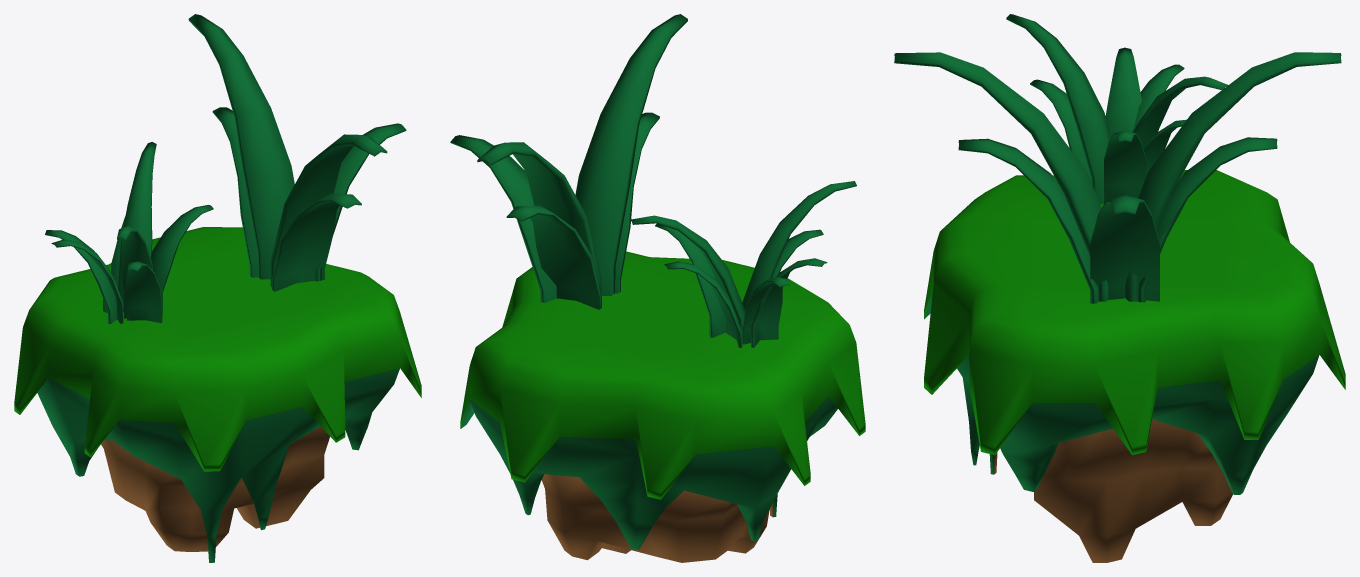
File: island.fbx
The picture shows the model from 3 angles, left to right: view 1: azimuth 30°, elevation 25°; view 2: azimuth 150°, elevation 25°; view 3: azimuth 270°, elevation 25°; orthographic projection. The views are drawn at different scales.
Parts seen in each view (by area): view 1: Cube.007, Cube.013, Cube.010, Cube.012, Cube.006, Cube.003, Cube.011, Cube.009, Cube.002, Cube.005, Cube.001, Cube.008; view 2: Cube.007, Cube.012, Cube.011, Cube.013, Cube.002, Cube.005, Cube.001, Cube.006, Cube.009, Cube.010, Cube.004, Cube.008 (+1 smaller); view 3: Cube.007, Cube.012, Cube.013, Cube.002, Cube.005, Cube.010, Cube.011, Cube.009, Cube.008, Cube.006, Cube.003, Cube.001 (+1 smaller).
Part boxes in pixels (box(x1,y1,x2,y2)): Cube.007: box(14, 227, 421, 562); Cube.013: box(188, 14, 294, 279); Cube.010: box(272, 193, 361, 291); Cube.012: box(270, 134, 387, 286); Cube.006: box(118, 142, 156, 311); Cube.003: box(125, 261, 162, 323); Cube.011: box(212, 107, 257, 277); Cube.009: box(151, 205, 213, 313); Cube.002: box(315, 123, 406, 281); Cube.005: box(117, 225, 152, 318); Cube.001: box(45, 230, 116, 323); Cube.008: box(51, 239, 123, 323); Cube.007: box(460, 251, 865, 562); Cube.012: box(575, 14, 687, 295); Cube.011: box(506, 205, 601, 309); Cube.013: box(477, 142, 601, 292); Cube.002: box(450, 135, 556, 302); Cube.005: box(742, 181, 856, 310); Cube.001: box(742, 277, 790, 344); Cube.006: box(629, 215, 745, 332); Cube.009: box(655, 224, 726, 337); Cube.010: box(615, 112, 659, 293); Cube.004: box(664, 261, 742, 347); Cube.008: box(751, 258, 827, 347); Cube.007: box(924, 170, 1345, 562); Cube.012: box(894, 52, 1108, 301); Cube.013: box(1125, 52, 1341, 301); Cube.002: box(1090, 195, 1159, 301); Cube.005: box(1006, 14, 1111, 204); Cube.010: box(958, 138, 1098, 303); Cube.011: box(1138, 137, 1277, 302); Cube.009: box(1104, 130, 1146, 203); Cube.008: box(1105, 47, 1141, 136); Cube.006: box(1133, 76, 1228, 148); Cube.003: box(1030, 79, 1091, 181); Cube.001: box(1132, 64, 1184, 132).
Bounding box in the file's own units: 1002 × 1147 × 908.
